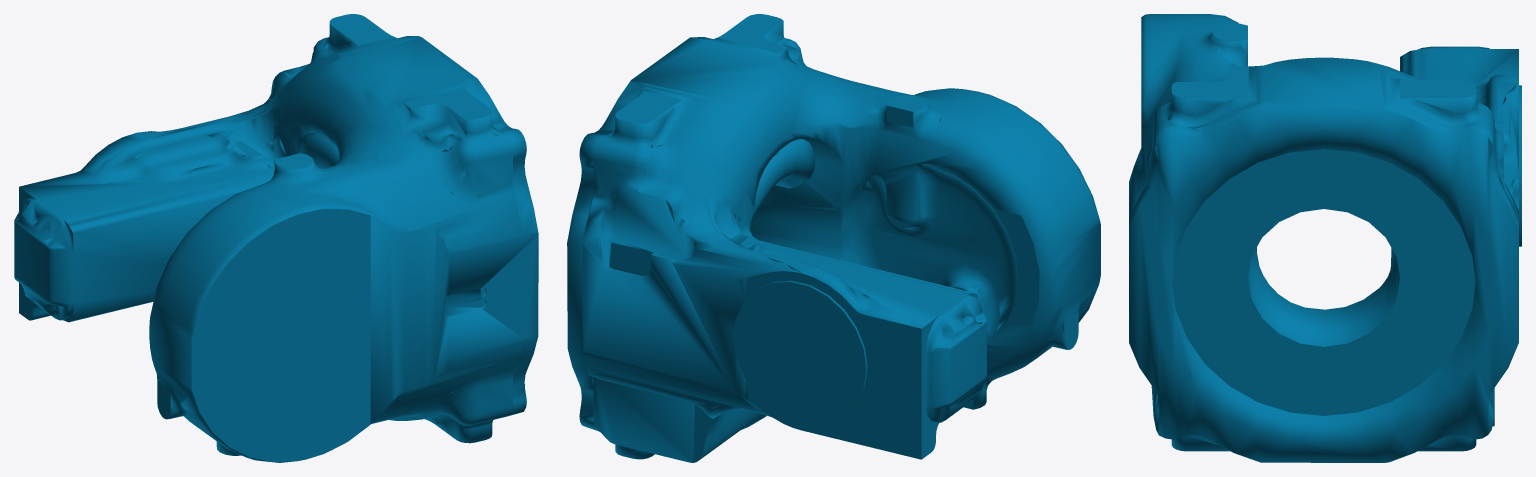
3 views of the same model, side by side, from view 1: azimuth 30°, elevation 25°; view 2: azimuth 150°, elevation 25°; view 3: azimuth 270°, elevation 25° (orthographic). The views are drawn at different scales.
Parts seen in each view (by area): view 1: mesh_shell_11__LOD_0_.005; view 2: mesh_shell_11__LOD_0_.005; view 3: mesh_shell_11__LOD_0_.005.
Boxes of the visible parts, x1,y1,x2,y2 form: mesh_shell_11__LOD_0_.005: [14, 14, 538, 462]; mesh_shell_11__LOD_0_.005: [567, 14, 1100, 462]; mesh_shell_11__LOD_0_.005: [1129, 14, 1521, 462].
Bounding box in the file's own units: 0.1488 × 0.129 × 0.128.
